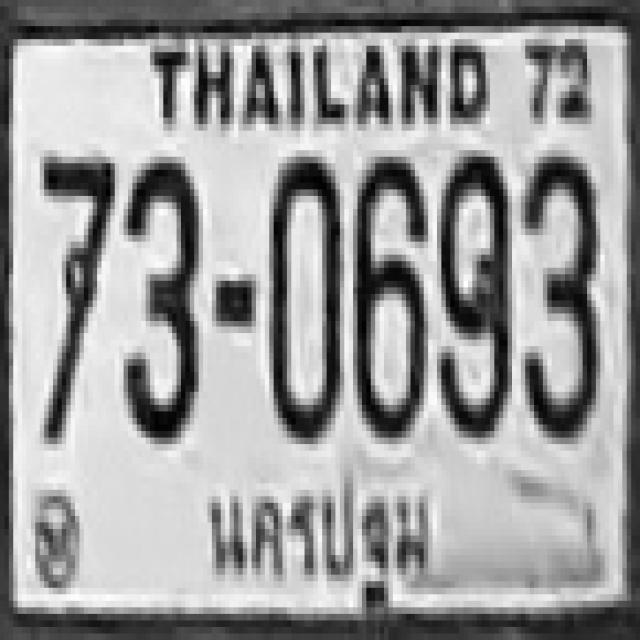0: (265, 150, 340, 438)
3: (119, 150, 199, 438), (521, 150, 596, 431)
6: (348, 150, 424, 431)
7: (38, 150, 112, 438), (40, 147, 110, 349)
9: (437, 150, 508, 431)
NPT: (207, 446, 437, 630)
